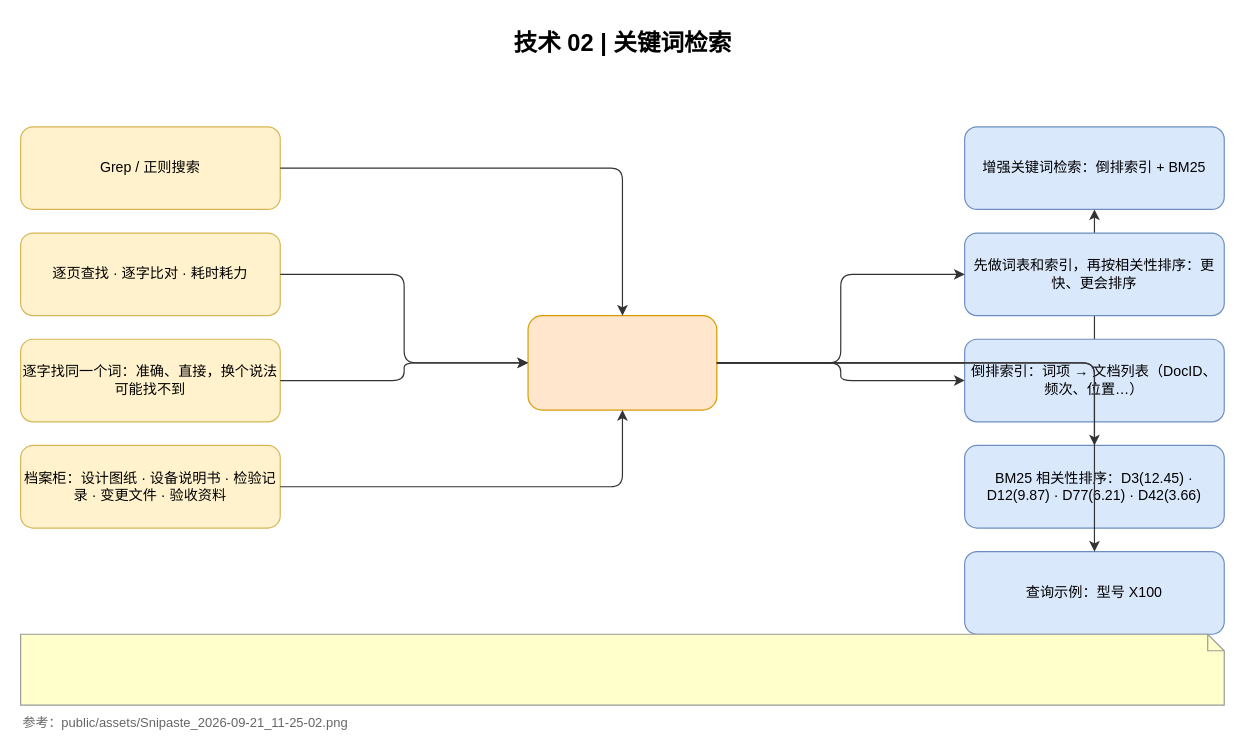
Image size: 1245x753. Some labels were removed from this diagram. Each missing label, with the box of its shape:
姓名 · 型号 · 编号 · 法规原句: (527, 314, 717, 410)
擅长姓名、型号、编号、法规原句；不等于语义理解: (19, 633, 1224, 705)
